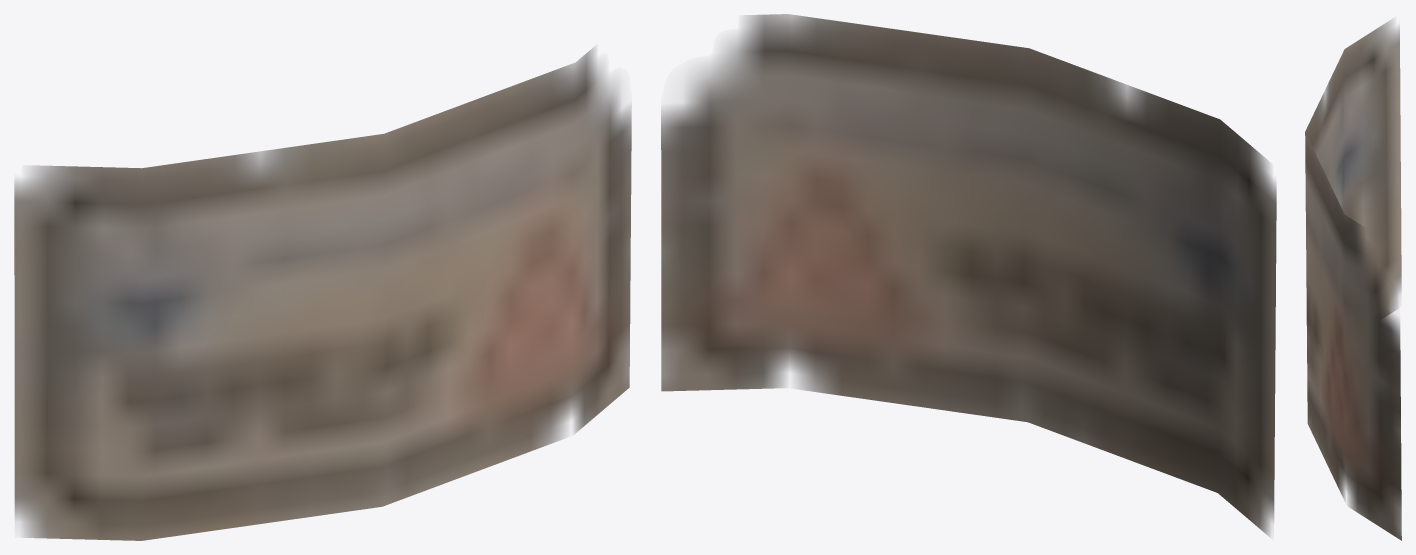
The model's file is bottle_label_g.glb.
3 views of the same model, side by side, from view 1: azimuth 30°, elevation 25°; view 2: azimuth 150°, elevation 25°; view 3: azimuth 270°, elevation 25° (orthographic). The views are drawn at different scales.
Visible parts, largest first — view 1: chemistry_set_bottle_label_g.001; view 2: chemistry_set_bottle_label_g.001; view 3: chemistry_set_bottle_label_g.001.
Part boxes in pixels (<box>): chemistry_set_bottle_label_g.001: <box>14,47,631,540</box>; chemistry_set_bottle_label_g.001: <box>661,14,1276,536</box>; chemistry_set_bottle_label_g.001: <box>1305,20,1401,540</box>.
Size of the model in its own units: 0.027 by 0.0156 by 0.00468.
1 material, 1 textured.
